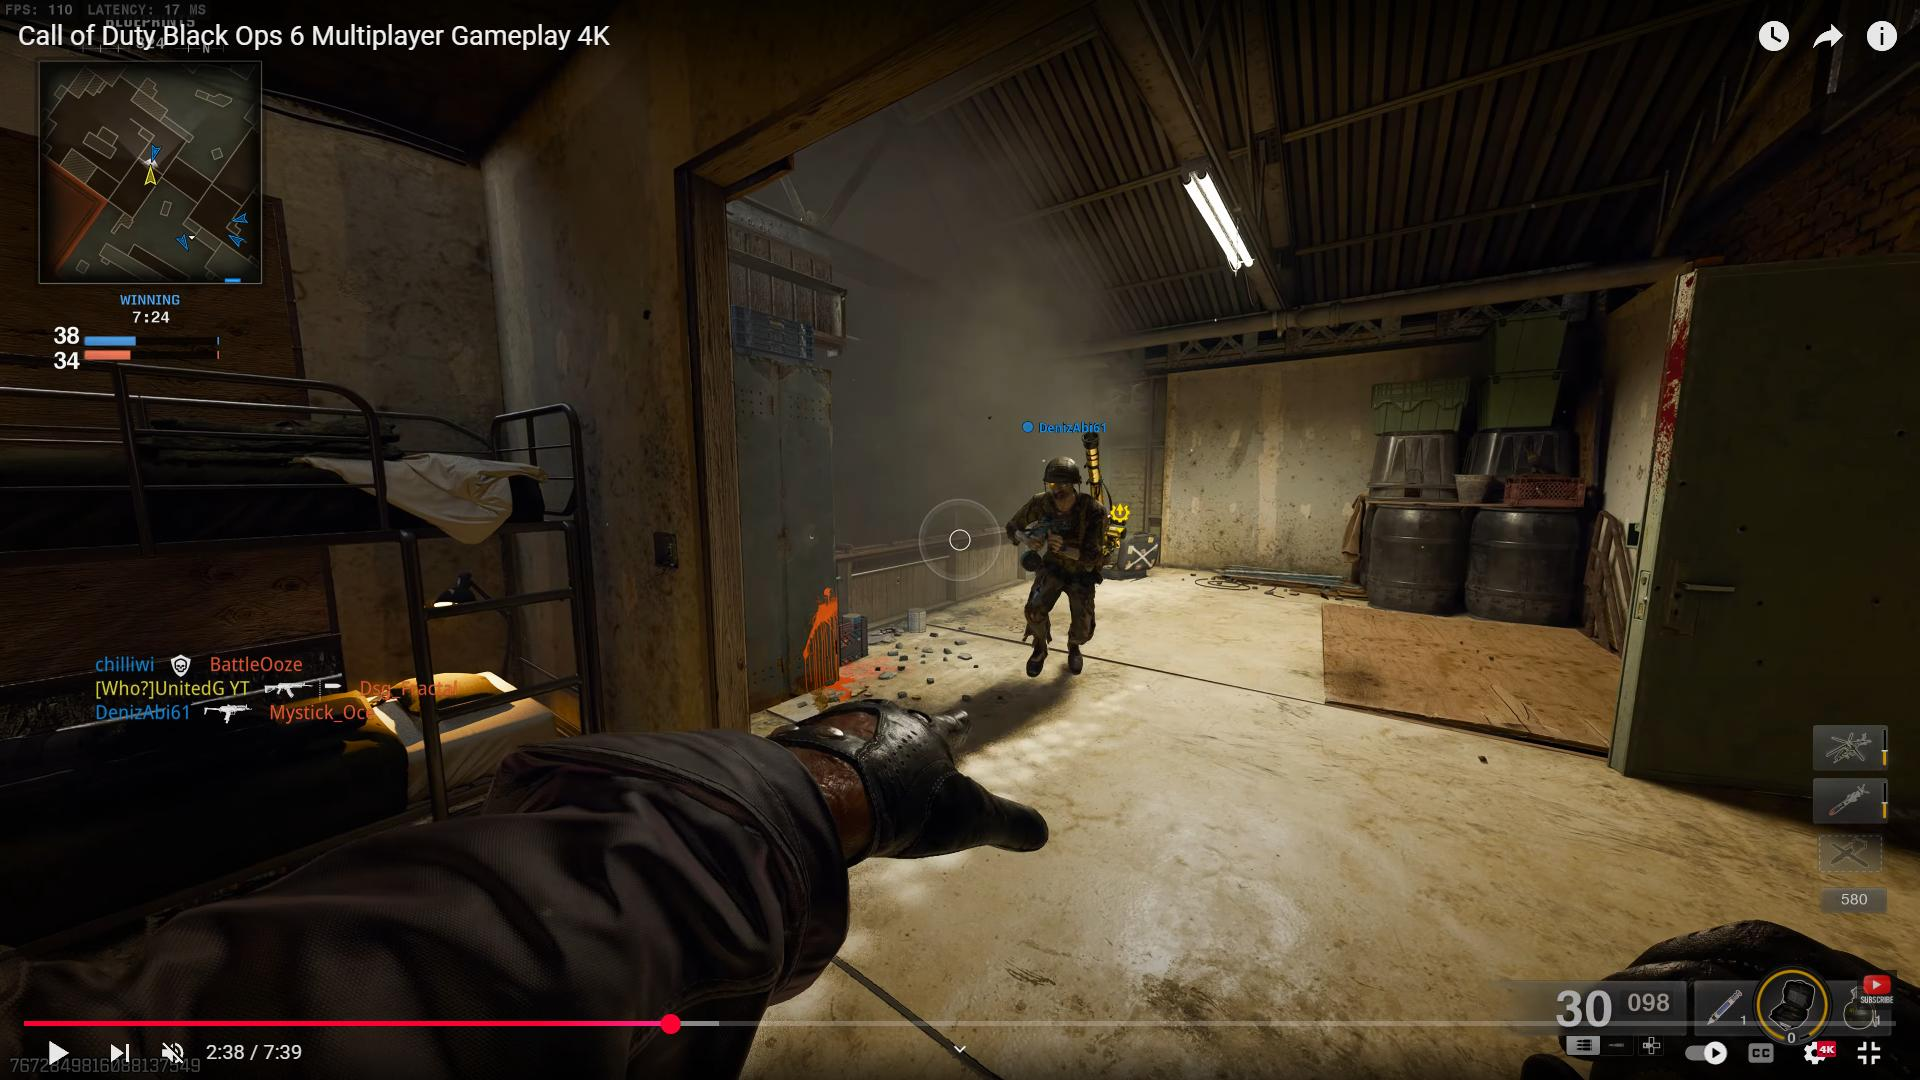Enemy: (1004, 458, 1120, 674)
